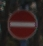No entry: (5, 6, 38, 41)
